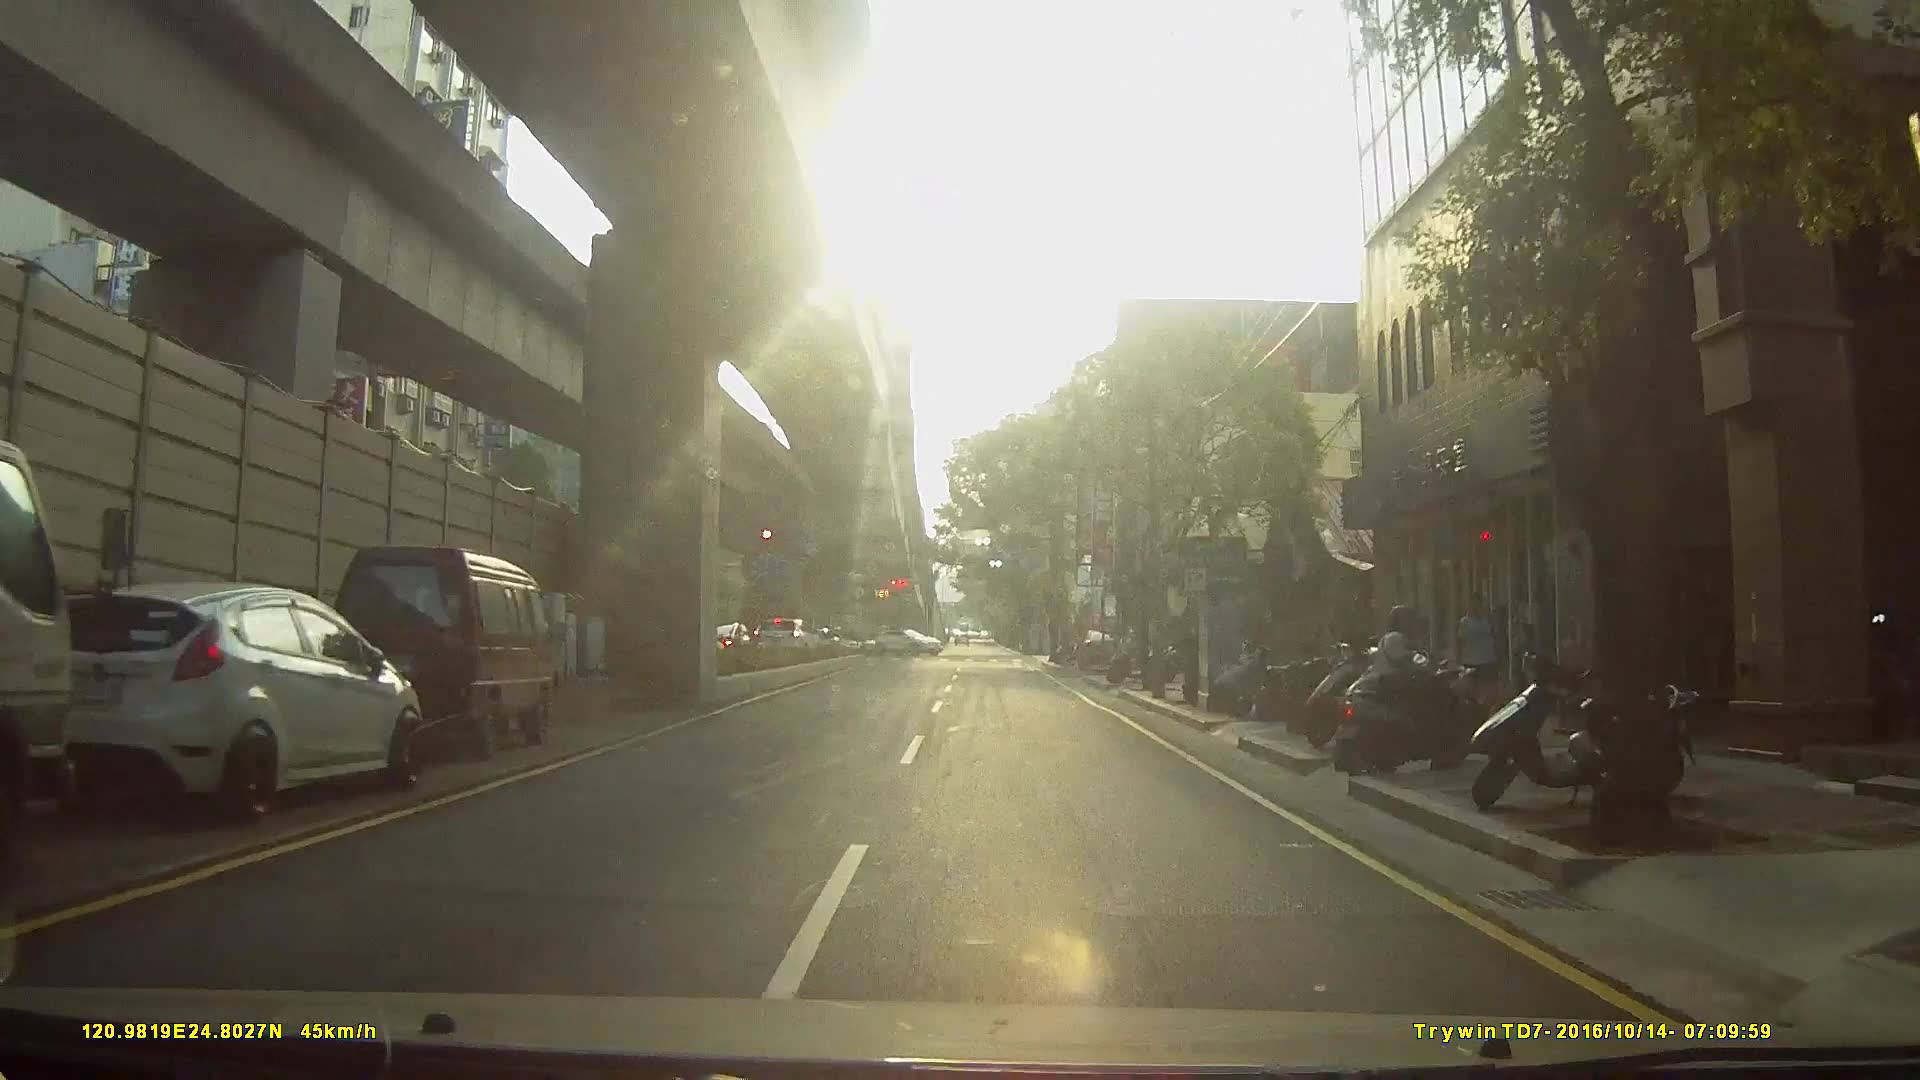pedestrian: (1450, 595, 1504, 725)
rider: (1332, 604, 1495, 788)
vehicle: (13, 567, 421, 836), (308, 539, 577, 767), (749, 616, 823, 661), (1072, 625, 1122, 670), (870, 627, 943, 656)
